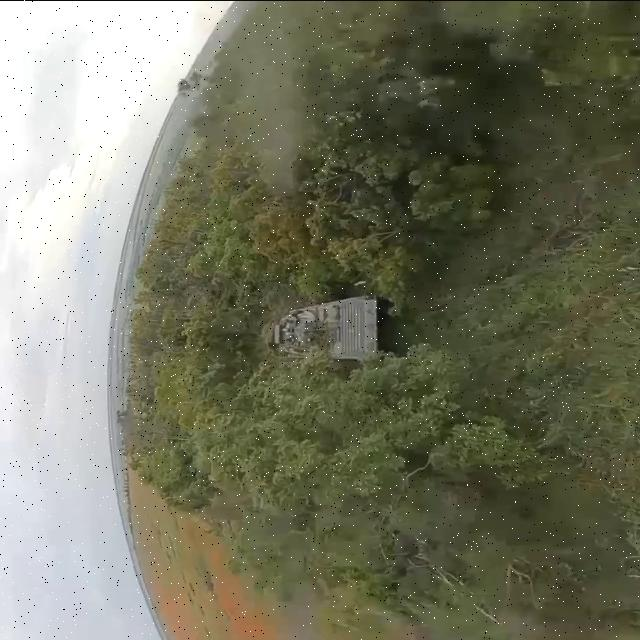AIFV: (273, 294, 393, 364)
